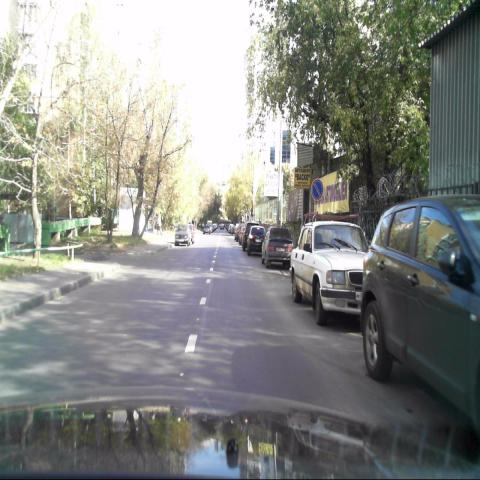3_28: (310, 177, 324, 202)
